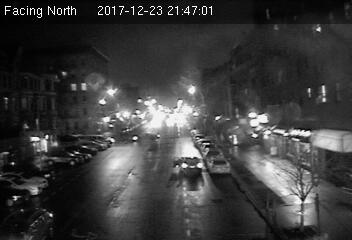car: (175, 156, 203, 175), (208, 156, 231, 177)
